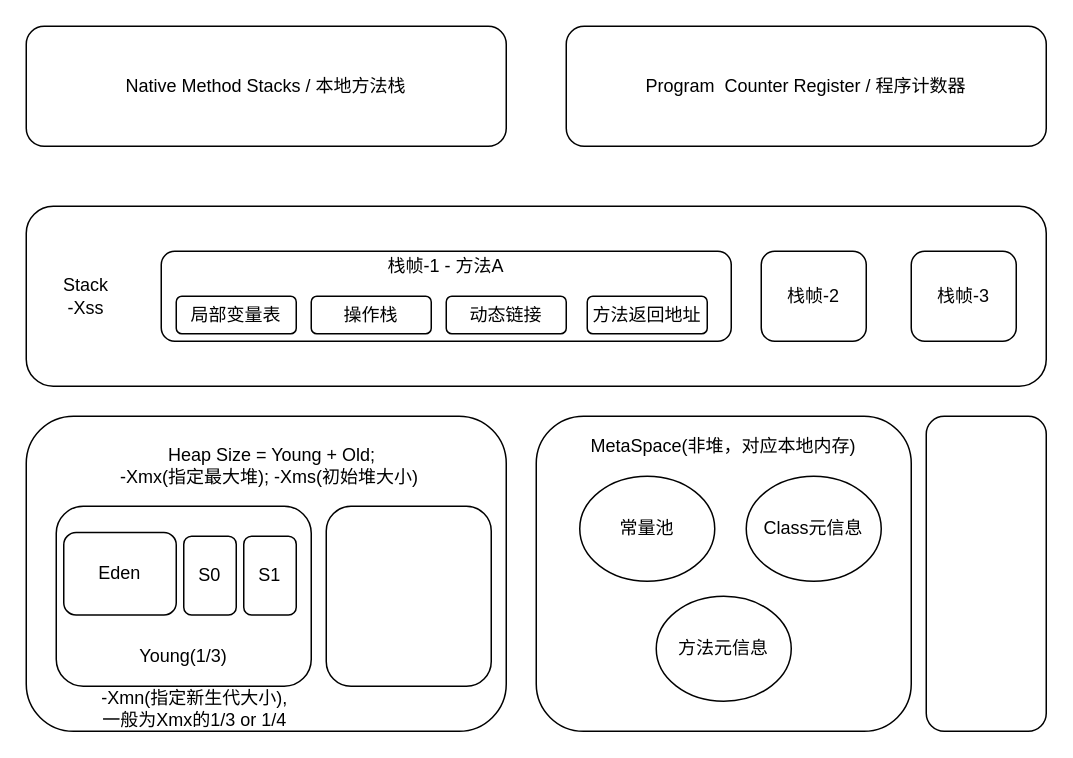
Image size: 1073x758. Some labels were removed from this diagram. The shapes that lost their labels are listed below. From the top down, each one's box as (x1, y1, x2, y2) in pixels, then its label:
(925, 415, 1046, 731): direct memory (非JVM内存, 堆外直接内存)
(325, 505, 491, 686): Old(2/3)
